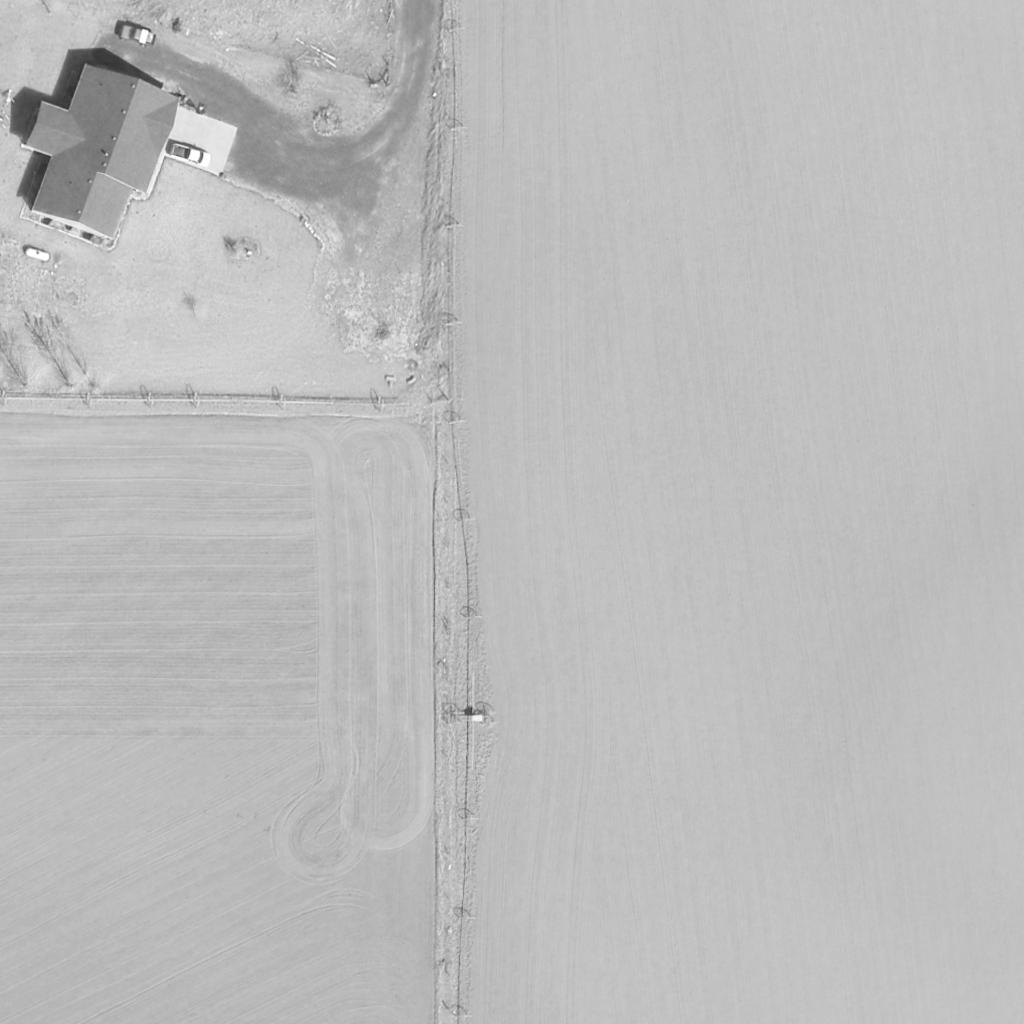vehicle: (170, 143, 212, 169), (118, 23, 158, 49)
